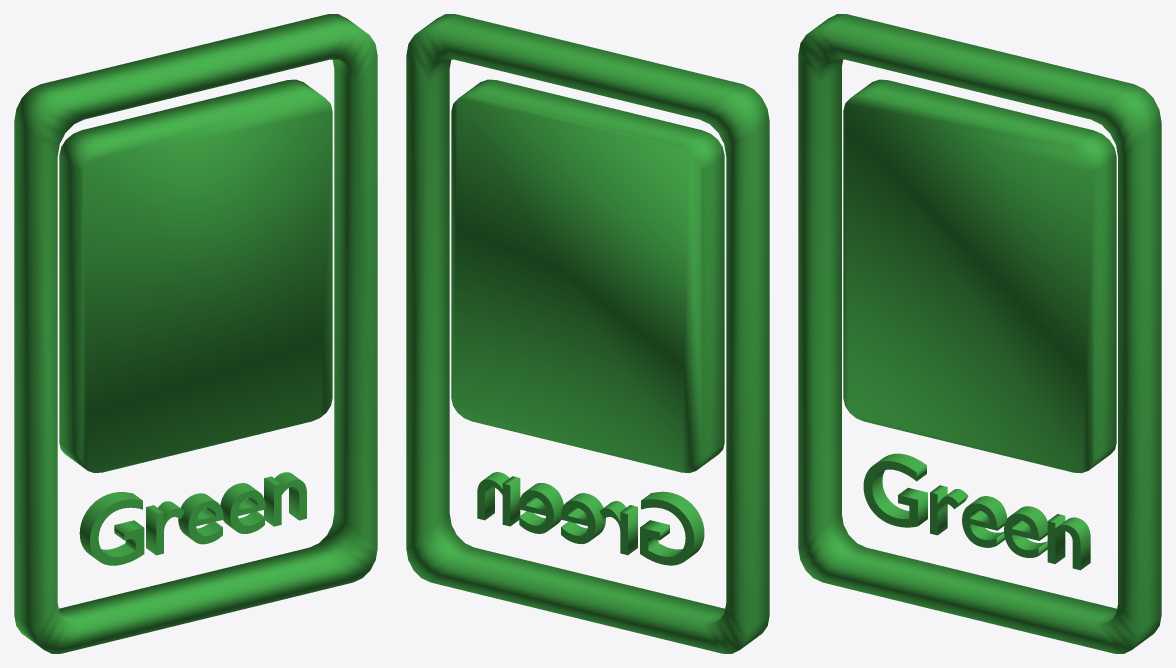
Rendered from Color_Green.gltf.
3 views of the same model, side by side, from view 1: azimuth 30°, elevation 25°; view 2: azimuth 150°, elevation 25°; view 3: azimuth 330°, elevation 25° (orthographic).
Parts seen in each view (by area): view 1: Text.007; view 2: Text.007; view 3: Text.007.
Part boxes in pixels (x1,y1,x2,y2): Text.007: (14,14,377,653); Text.007: (406,14,769,653); Text.007: (798,14,1161,653).
Size of the model in its own units: 1 by 1.56 by 0.1143.
